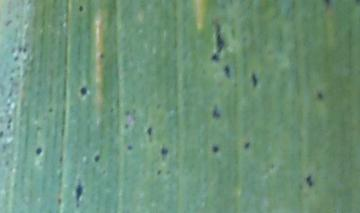tarspot: (215, 24, 224, 53), (75, 183, 82, 207), (211, 105, 223, 119), (222, 61, 231, 78), (160, 144, 168, 159), (306, 173, 314, 188), (251, 72, 257, 90), (79, 87, 89, 97), (92, 153, 101, 163), (243, 141, 251, 150), (35, 147, 42, 156), (211, 53, 218, 62), (4, 123, 13, 130), (212, 145, 219, 153), (78, 5, 84, 14), (146, 127, 152, 136), (318, 91, 323, 101), (98, 52, 106, 58), (127, 145, 134, 151), (156, 168, 162, 175), (123, 122, 129, 129), (8, 117, 13, 125), (48, 107, 53, 113), (324, 1, 331, 5), (1, 131, 5, 138), (22, 48, 27, 53), (14, 57, 20, 61)
